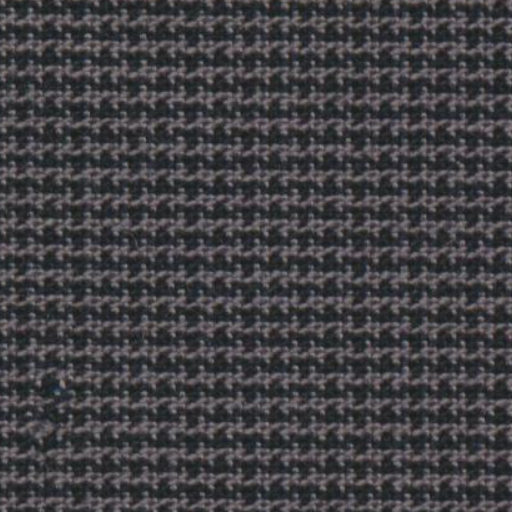PoDong: (16, 346, 92, 454)
